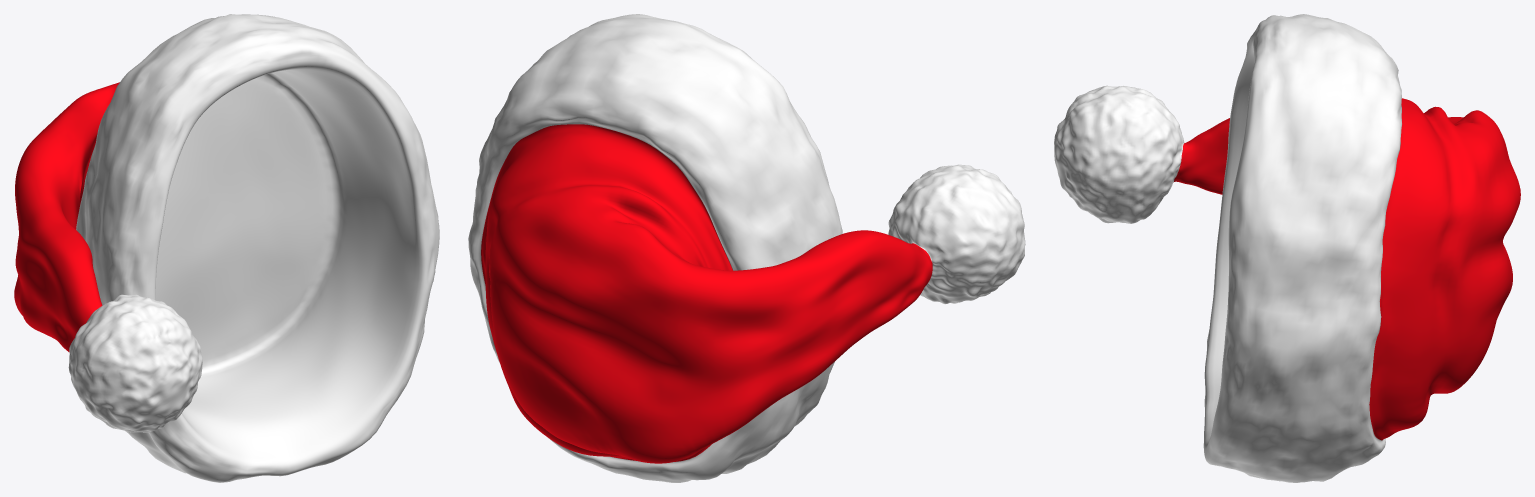
Rendered from hat.glb.
3 views of the same model, side by side, from view 1: azimuth 30°, elevation 25°; view 2: azimuth 150°, elevation 25°; view 3: azimuth 270°, elevation 25° (orthographic). The views are drawn at different scales.
Parts seen in each view (by area): view 1: santa_hat(BLENDER); view 2: santa_hat(BLENDER); view 3: santa_hat(BLENDER).
Part boxes in pixels (box(x1,y1,x2,y2)): santa_hat(BLENDER): box(14, 14, 439, 482); santa_hat(BLENDER): box(468, 14, 1025, 482); santa_hat(BLENDER): box(1054, 14, 1520, 482).
Bounding box in the file's own units: 5.86 × 5.65 × 5.52.
2 materials, 2 textured.
